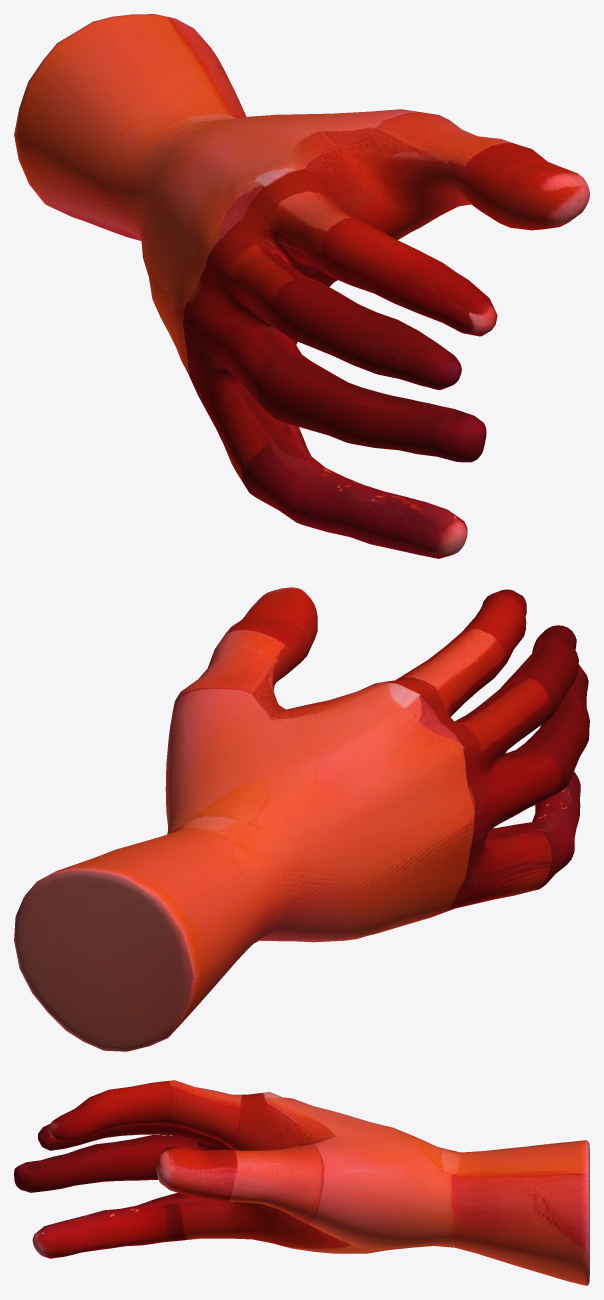
File: Akateko2.glb
3 views of the same model, one above another, from view 1: azimuth 30°, elevation 25°; view 2: azimuth 150°, elevation 25°; view 3: azimuth 270°, elevation 25° (orthographic). The views are drawn at different scales.
Visible parts, largest first — view 1: Retopo_akateko2.002; view 2: Retopo_akateko2.002; view 3: Retopo_akateko2.002.
Boxes of the visible parts, x1=… form: Retopo_akateko2.002: x1=14, y1=14, x2=589, y2=558; Retopo_akateko2.002: x1=14, y1=587, x2=589, y2=1051; Retopo_akateko2.002: x1=14, y1=1080, x2=589, y2=1285.
Bounding box in the file's own units: 0.8508 × 0.666 × 1.96.
Materials: 1 (1 with a texture image).
